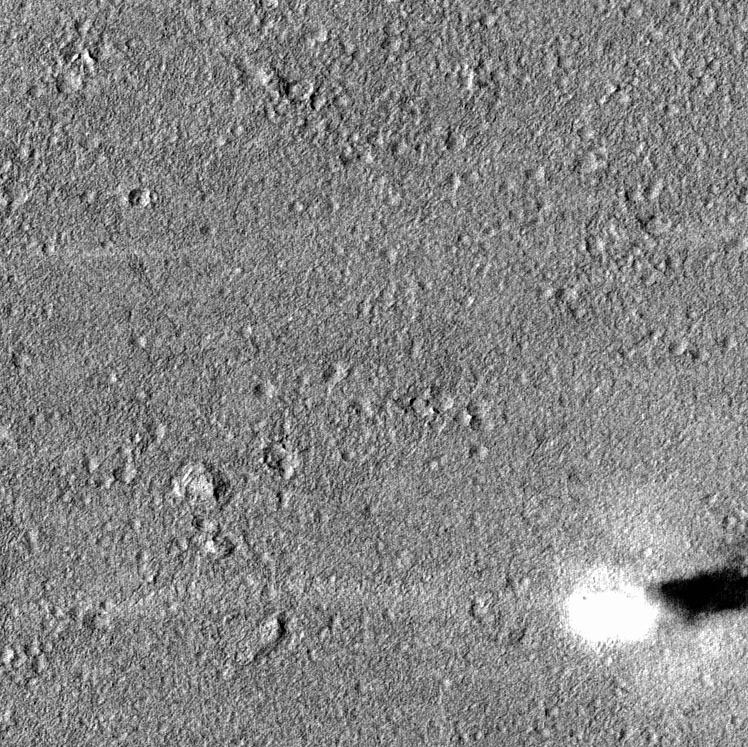dust_devil: (560, 551, 748, 650)
